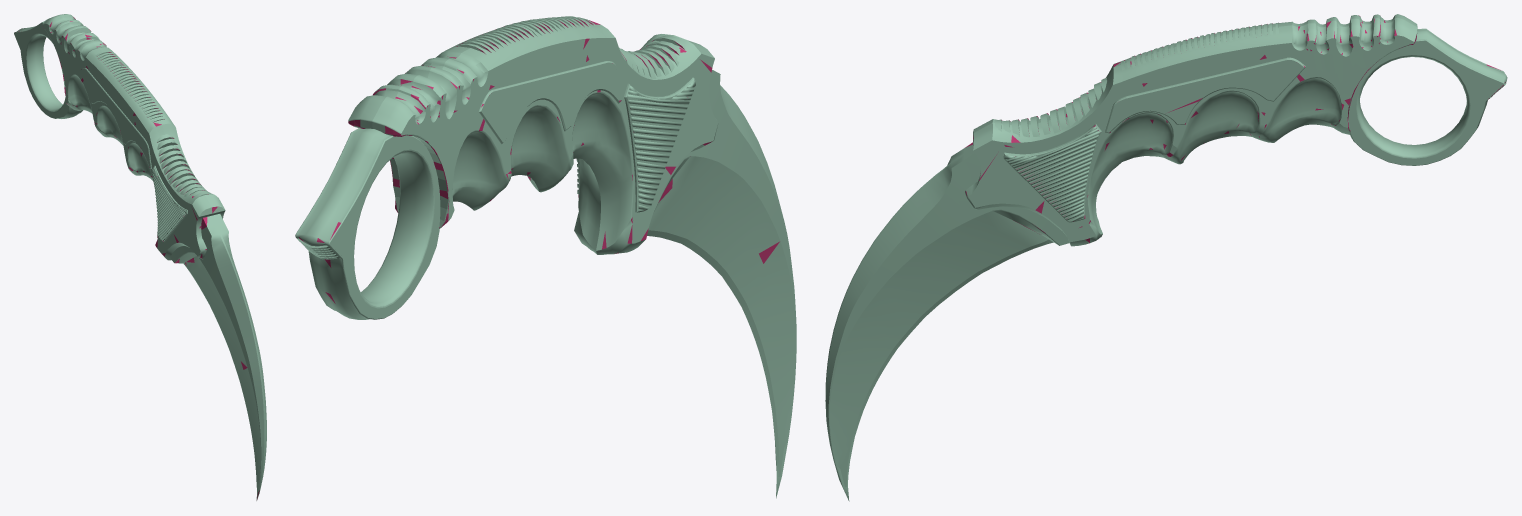
File: Karambit Lore.fbx
The picture shows the model from 3 angles, left to right: view 1: azimuth 30°, elevation 25°; view 2: azimuth 150°, elevation 25°; view 3: azimuth 270°, elevation 25°; orthographic projection. The views are drawn at different scales.
Visible parts, largest first — view 1: Karambit_Lore; view 2: Karambit_Lore; view 3: Karambit_Lore.
Boxes of the visible parts, x1,y1,x2,y2 form: Karambit_Lore: (14, 14, 266, 500); Karambit_Lore: (295, 16, 796, 498); Karambit_Lore: (825, 14, 1507, 501).
Bounding box in the file's own units: 1.45 × 15.38 × 19.63.
